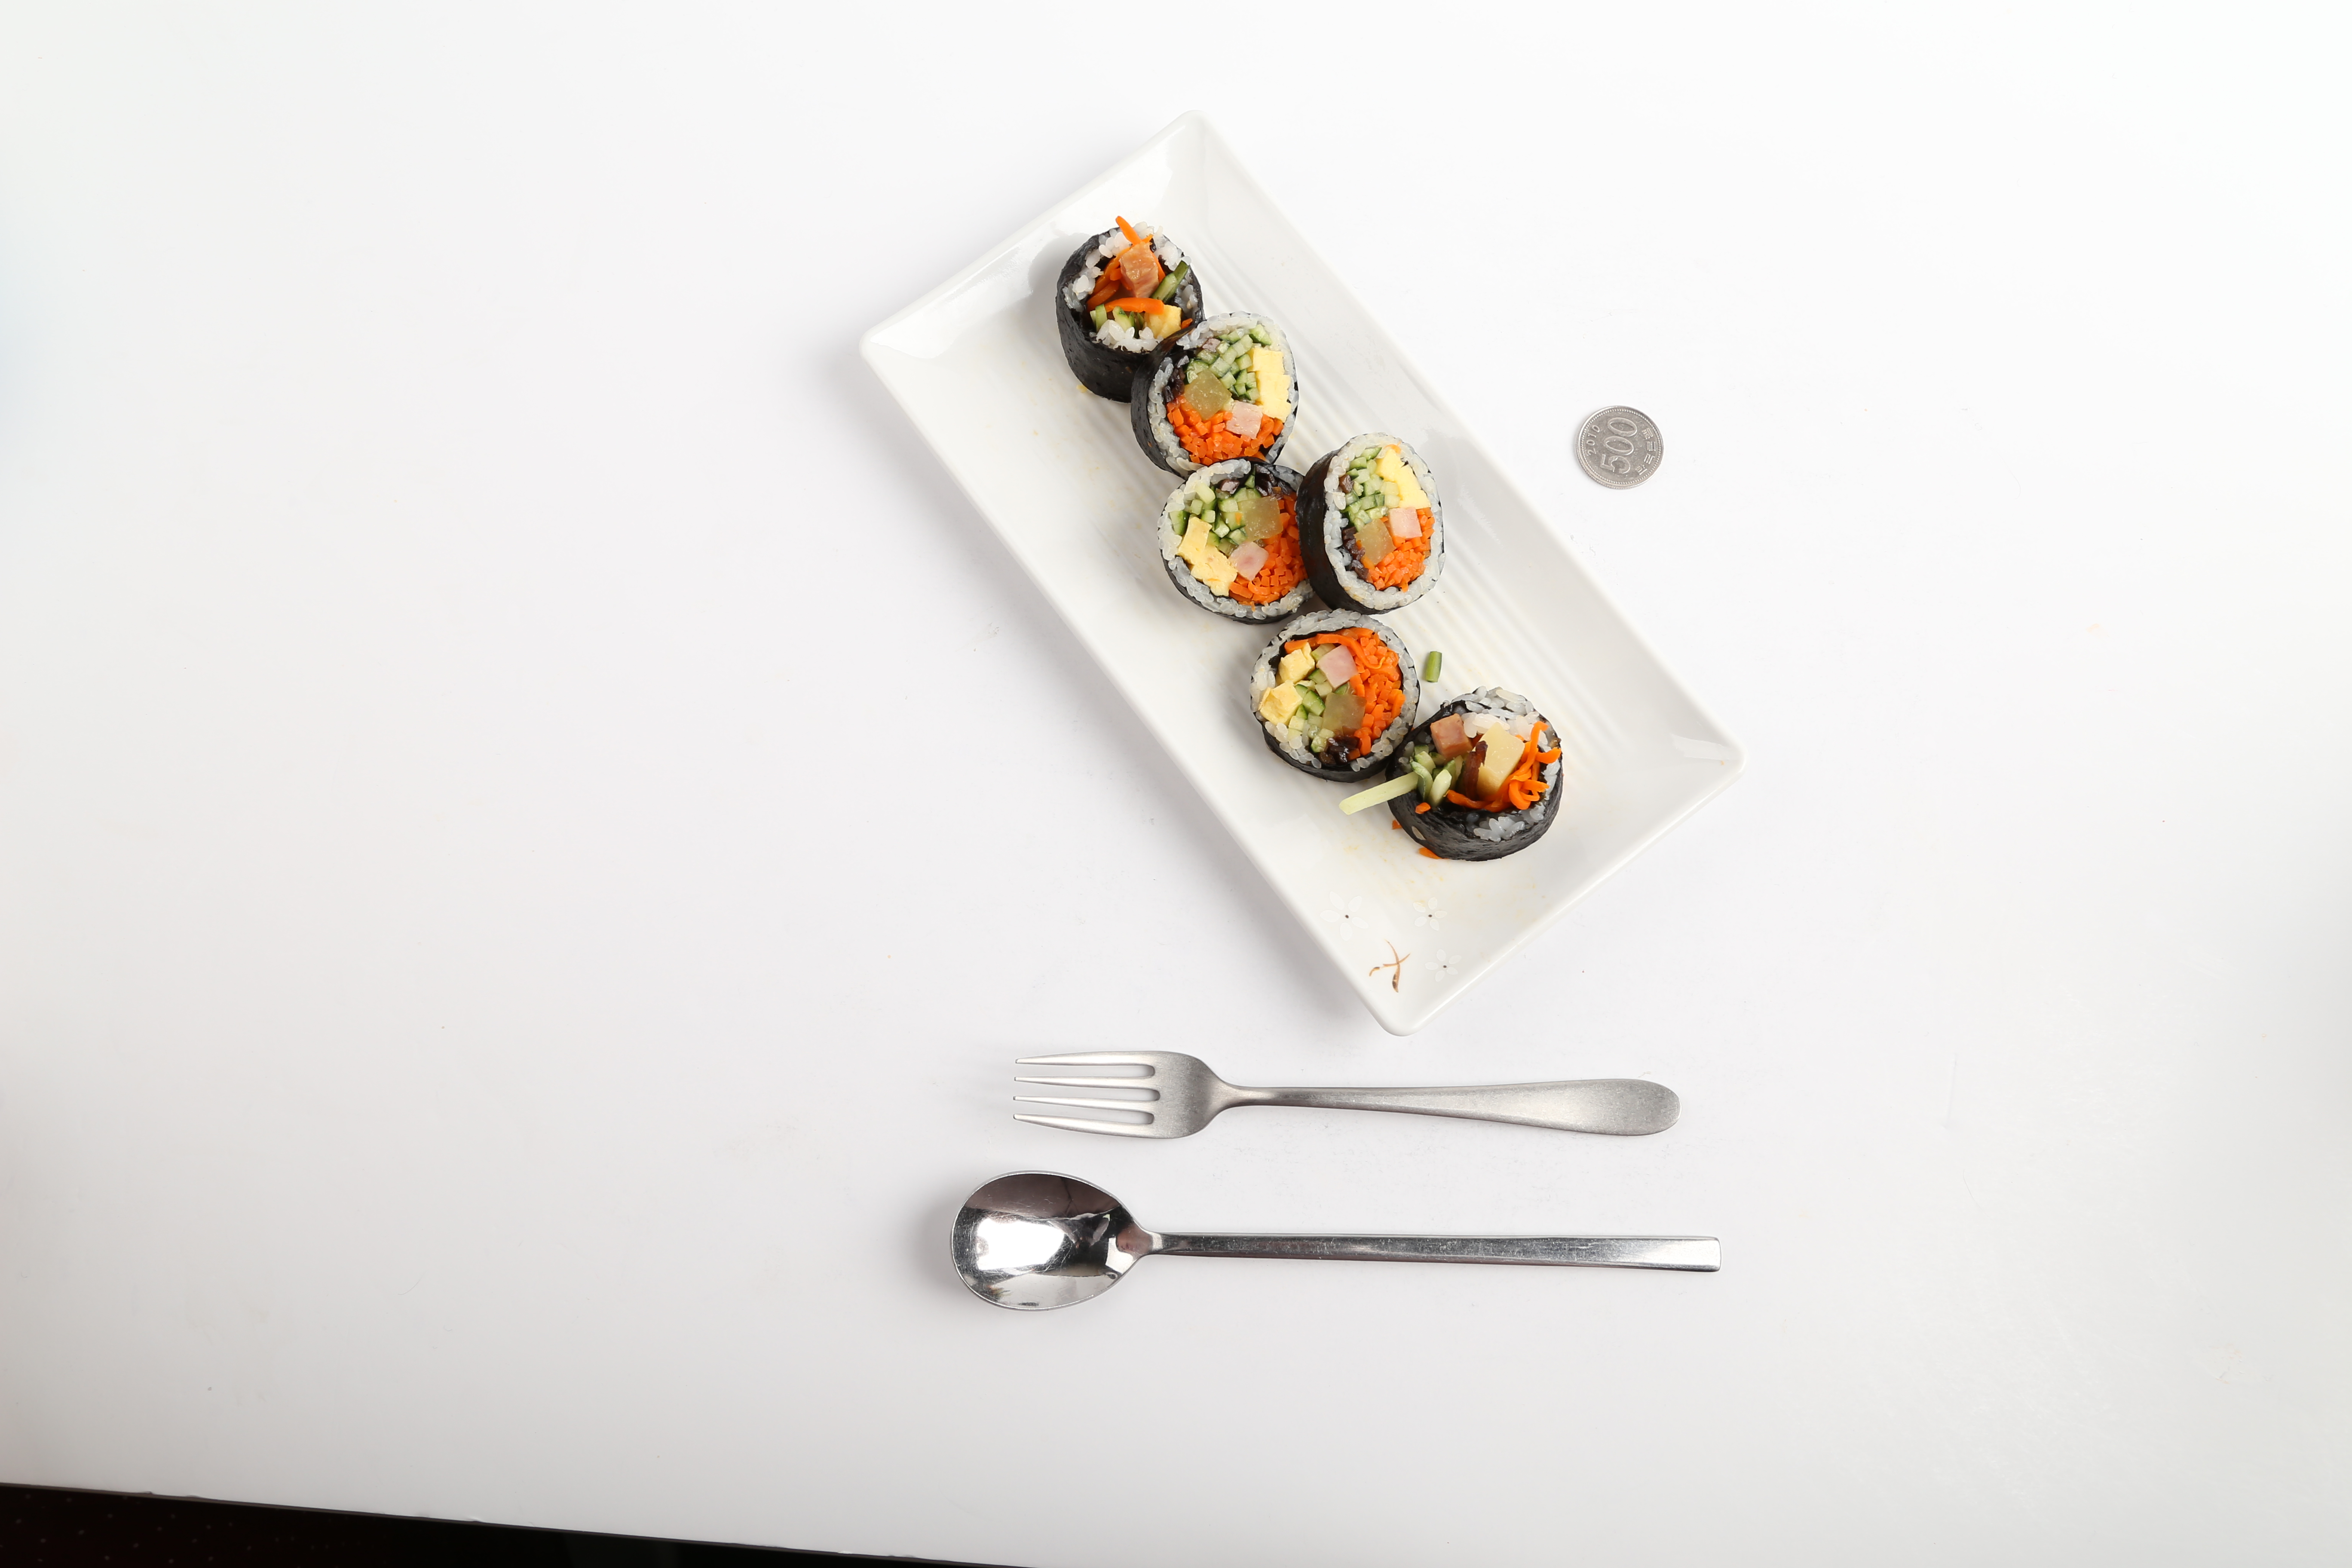dish: (861, 115, 1750, 1036)
ref_coin: (1571, 402, 1666, 493)
ref_fork: (1003, 1041, 1269, 1144)
ref_spoon: (948, 1164, 1202, 1318)
김밥: (1053, 220, 1568, 866)
